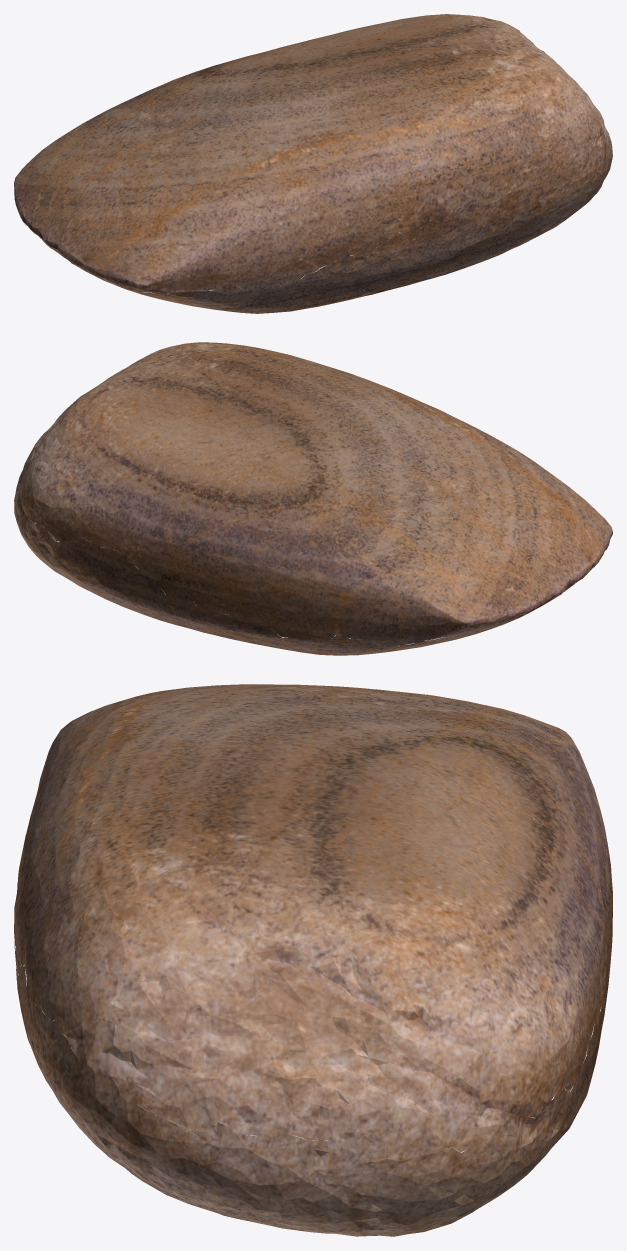
The model's file is Objeto_11_4k-b.glb.
The picture shows the model from 3 angles, top to bottom: view 1: azimuth 30°, elevation 25°; view 2: azimuth 150°, elevation 25°; view 3: azimuth 270°, elevation 25°; orthographic projection. The views are drawn at different scales.
Visible parts, largest first — view 1: Mesh_0; view 2: Mesh_0; view 3: Mesh_0.
Boxes of the visible parts, x1,y1,x2,y2 form: Mesh_0: (14, 14, 612, 313); Mesh_0: (14, 342, 612, 655); Mesh_0: (14, 684, 612, 1236).
Bounding box in the file's own units: 0.0745 × 0.0286 × 0.0434.
Materials: 1 (1 with a texture image).
